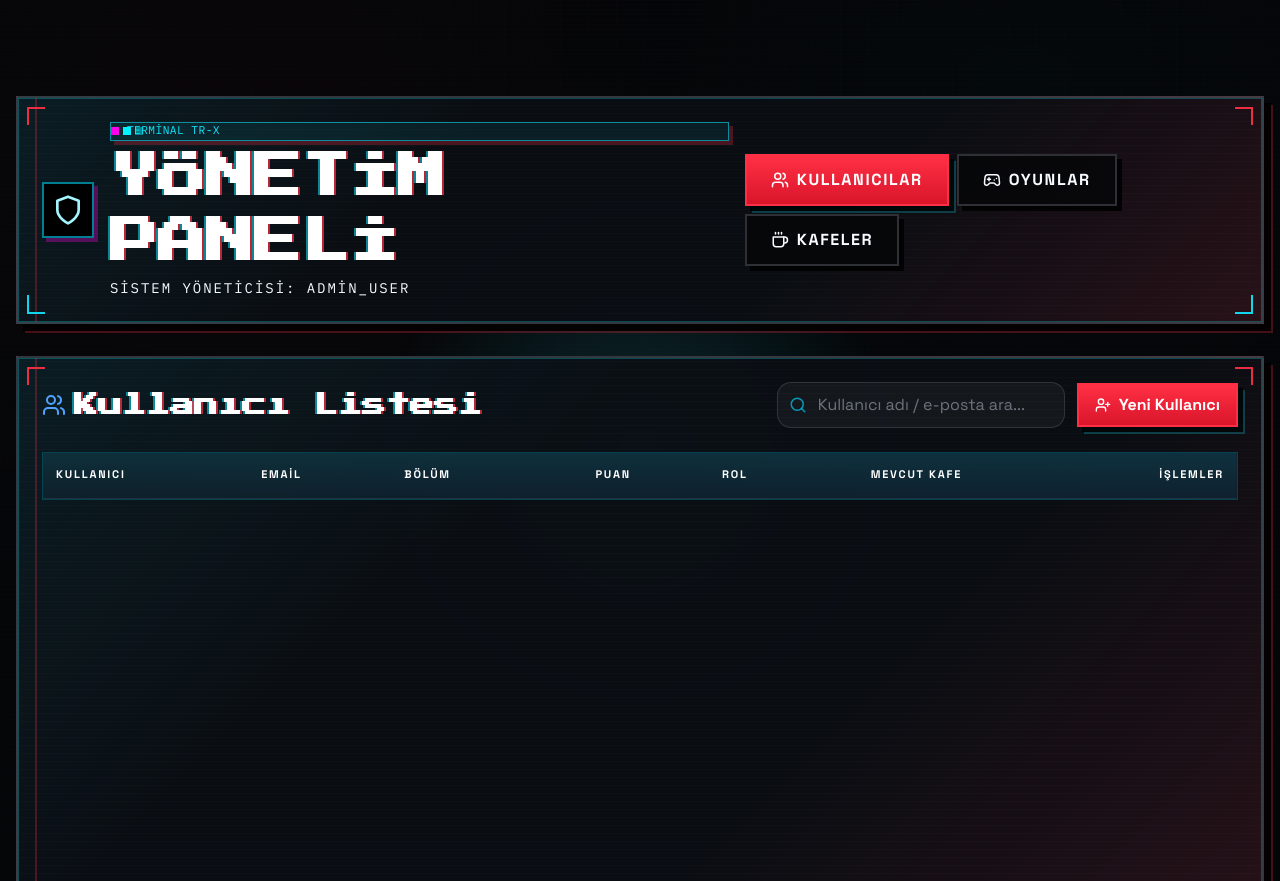
Test: AdminDashboard › switches to cafes tab when clicked
Expected: the heading "Kullanıcı Listesi" is shown, [42,389,482,422]
Click the button "Kafeler".
click(822, 240)  # box [745,214,899,266]
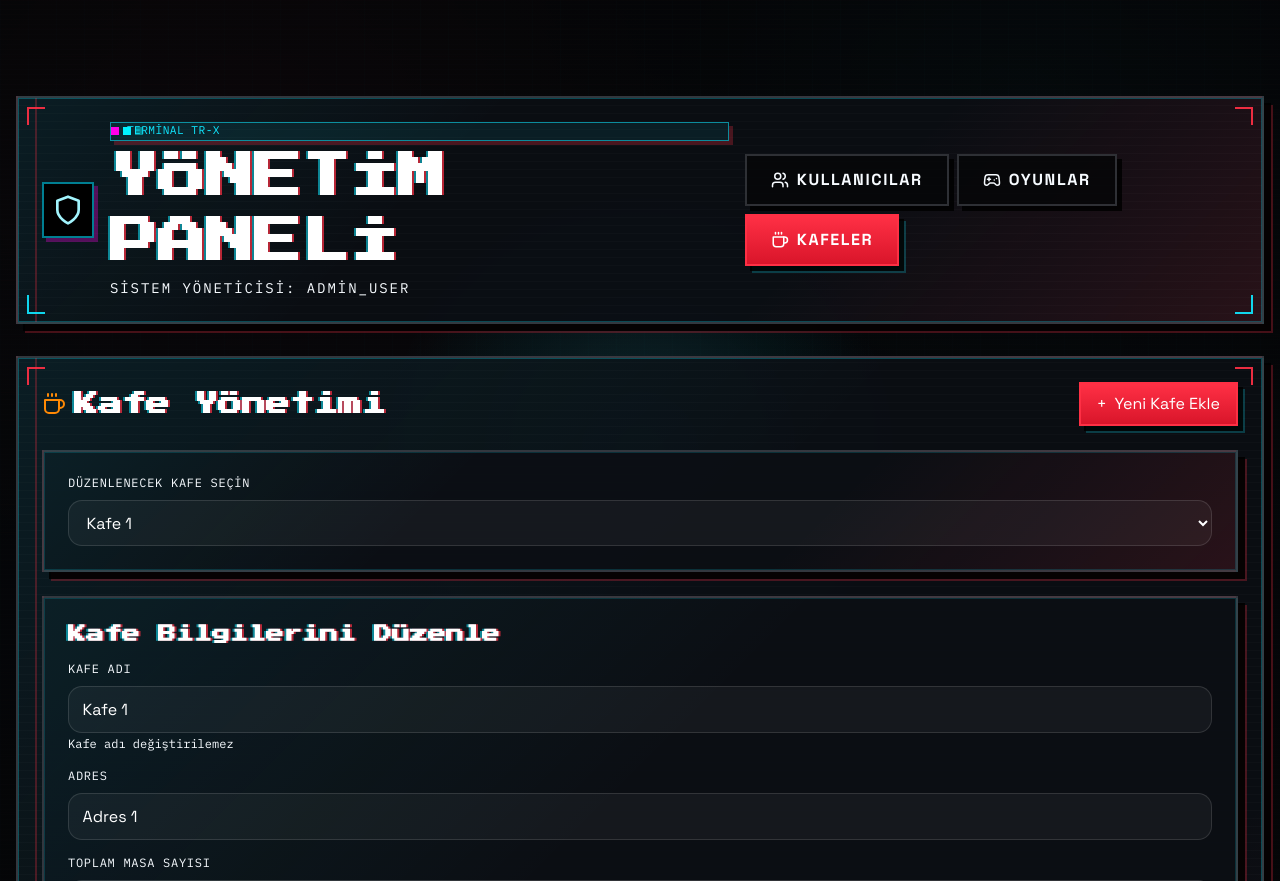
Expected: the heading "Kafe Yönetimi" is shown, [42,388,386,421]
